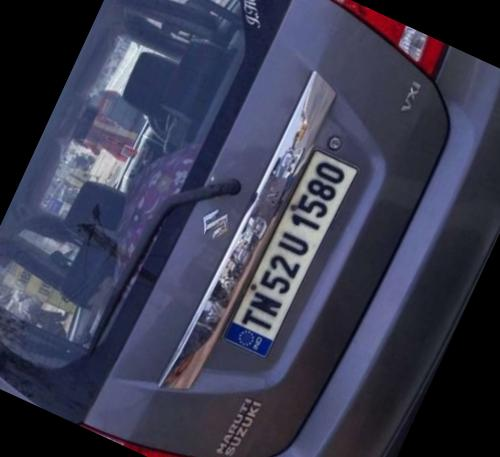plate: (211, 126, 378, 359)
